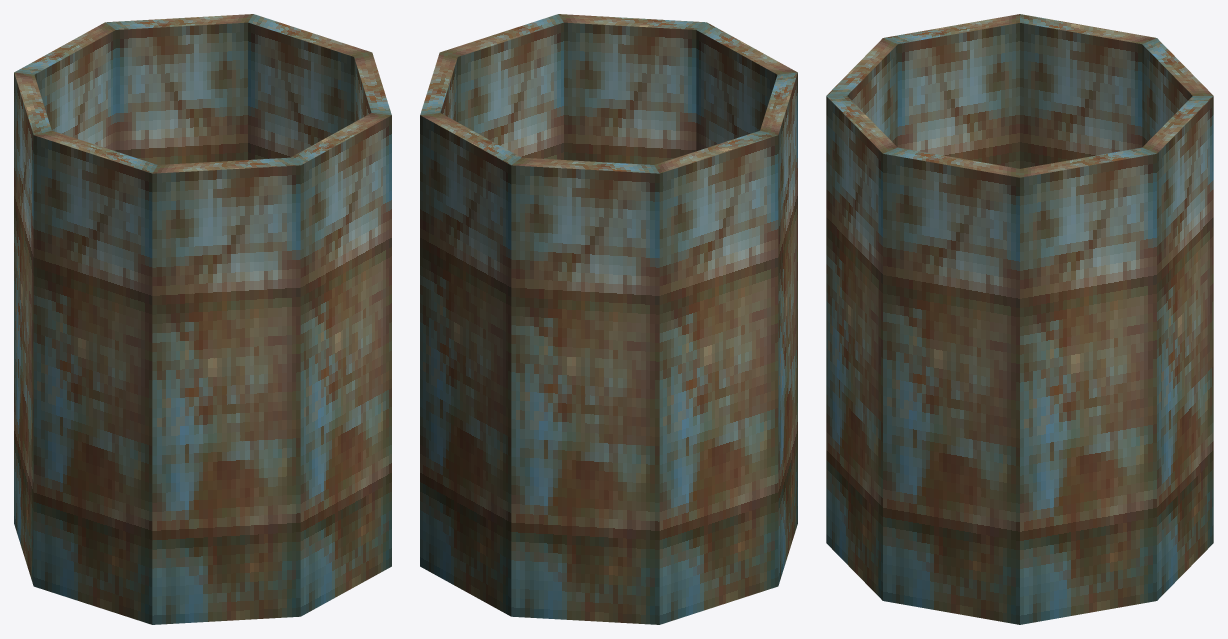
File: Barrel.glb
3 renders of one model, left to right at view 1: azimuth 30°, elevation 25°; view 2: azimuth 150°, elevation 25°; view 3: azimuth 270°, elevation 25°, orthographic.
Parts seen in each view (by area): view 1: Barrel; view 2: Barrel; view 3: Barrel.
Boxes of the visible parts, x1,y1,x2,y2 form: Barrel: (14,14,391,624); Barrel: (420,14,797,624); Barrel: (826,14,1213,624).
Bounding box in the file's own units: 1.18 × 1.5 × 1.18.
Materials: 1 (1 with a texture image).
